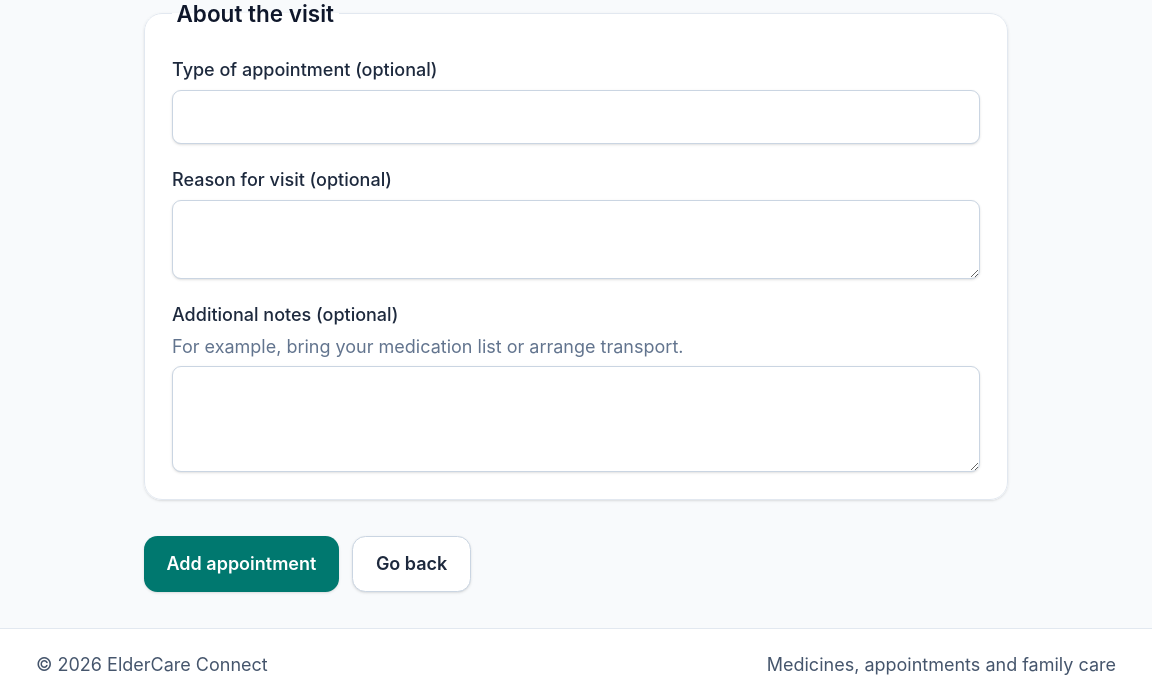
Test: elderly appointments › does not submit an incomplete form
(page scrolled)
Click the button "Add appointment" at point(241, 564), box [144,536,339,592]
(page scrolled)
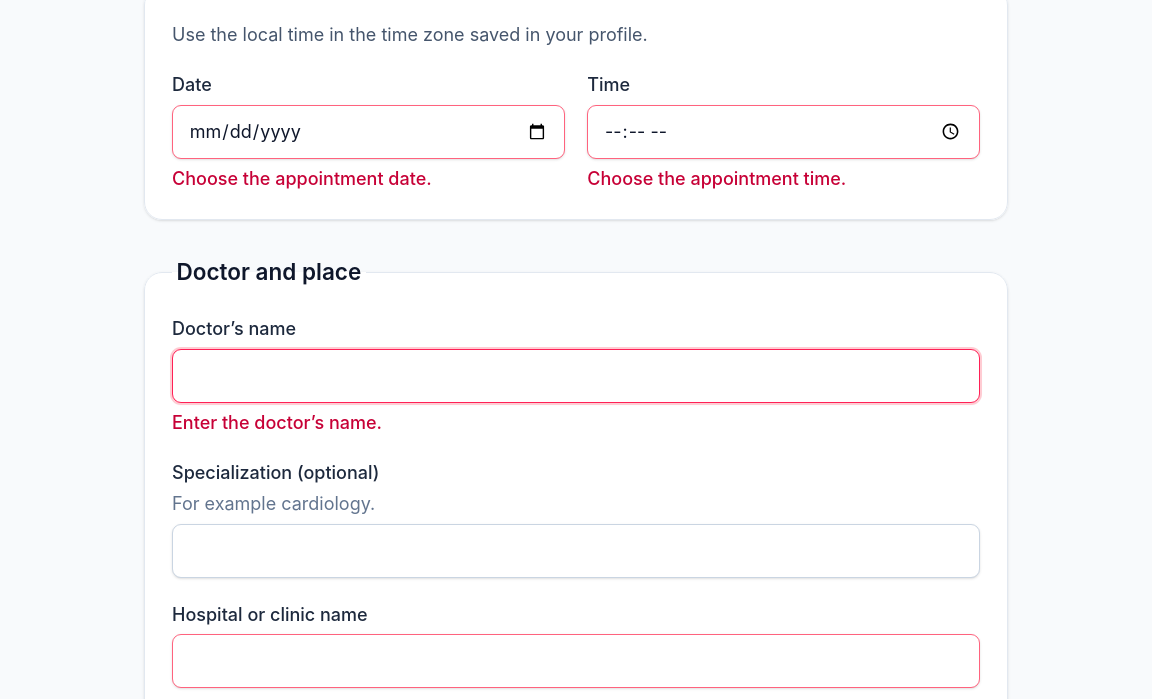
Now the text "Enter the doctor’s name." is shown, box [172,412,382,433]
